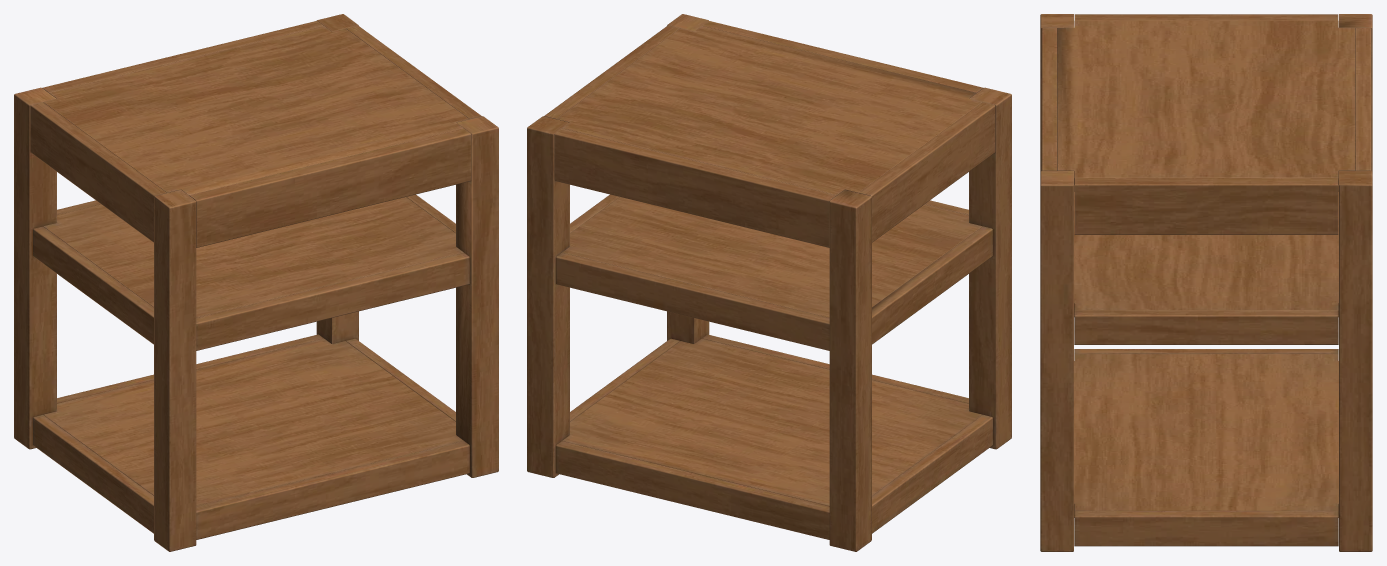
Rendered from side_table_01.glb.
3 renders of one model, left to right at view 1: azimuth 30°, elevation 25°; view 2: azimuth 150°, elevation 25°; view 3: azimuth 270°, elevation 25°, orthographic. The views are drawn at different scales.
Parts seen in each view (by area): view 1: side_table_01; view 2: side_table_01; view 3: side_table_01.
Boxes of the visible parts, x1,y1,x2,y2 form: side_table_01: (14,14,498,551); side_table_01: (527,14,1011,551); side_table_01: (1040,14,1372,551).
Bounding box in the file's own units: 0.55 × 0.5507 × 0.45.
1 material, 1 textured.
